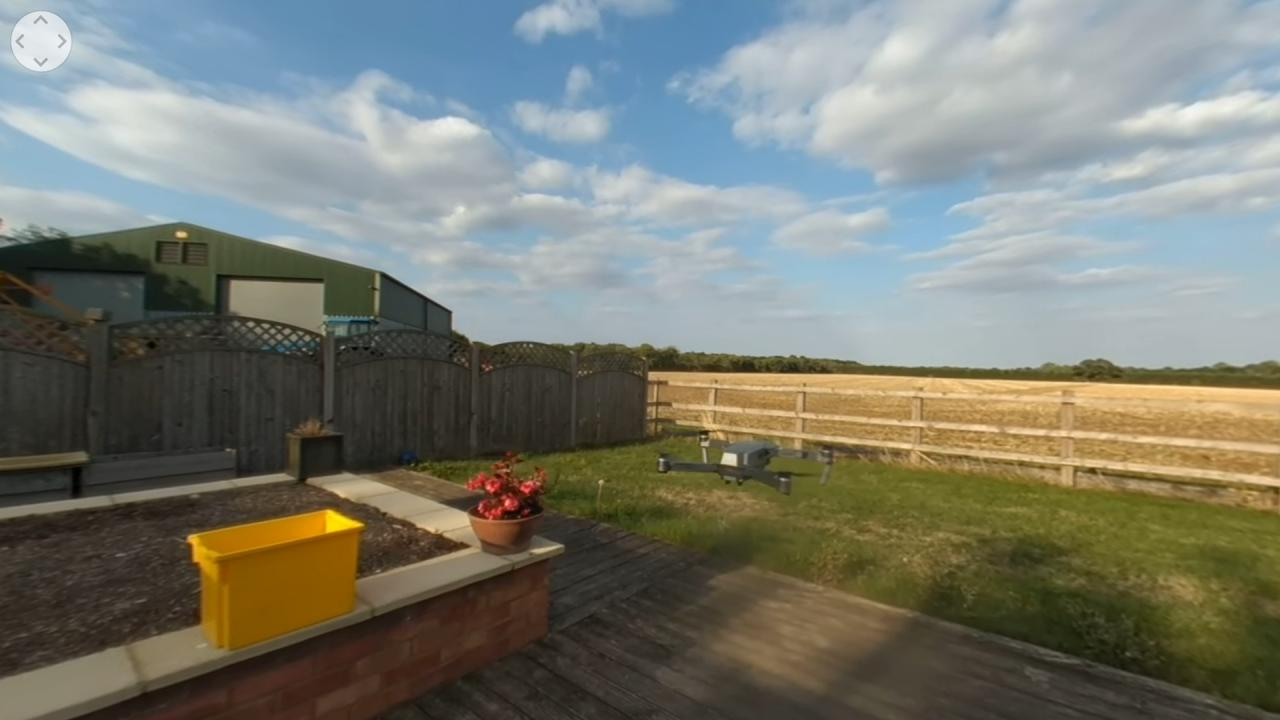Drone: (639, 414, 884, 510)
